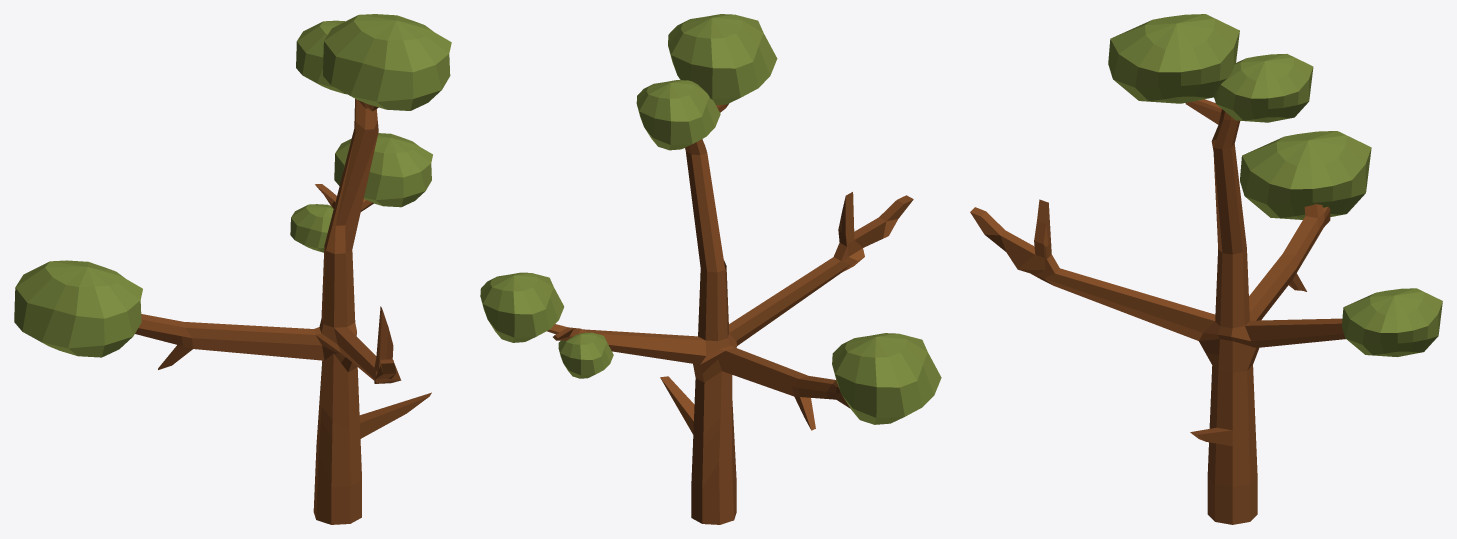
The model's file is tree.fbx.
The picture shows the model from 3 angles, left to right: view 1: azimuth 30°, elevation 25°; view 2: azimuth 150°, elevation 25°; view 3: azimuth 270°, elevation 25°; orthographic projection. The views are drawn at different scales.
Visible parts, largest first — view 1: Sphere.004; view 2: Sphere.004; view 3: Sphere.004.
Part boxes in pixels (x1,y1,x2,y2): Sphere.004: [14, 14, 451, 524]; Sphere.004: [480, 14, 941, 524]; Sphere.004: [970, 14, 1442, 524].
Bounding box in the file's own units: 534 × 589 × 499.
